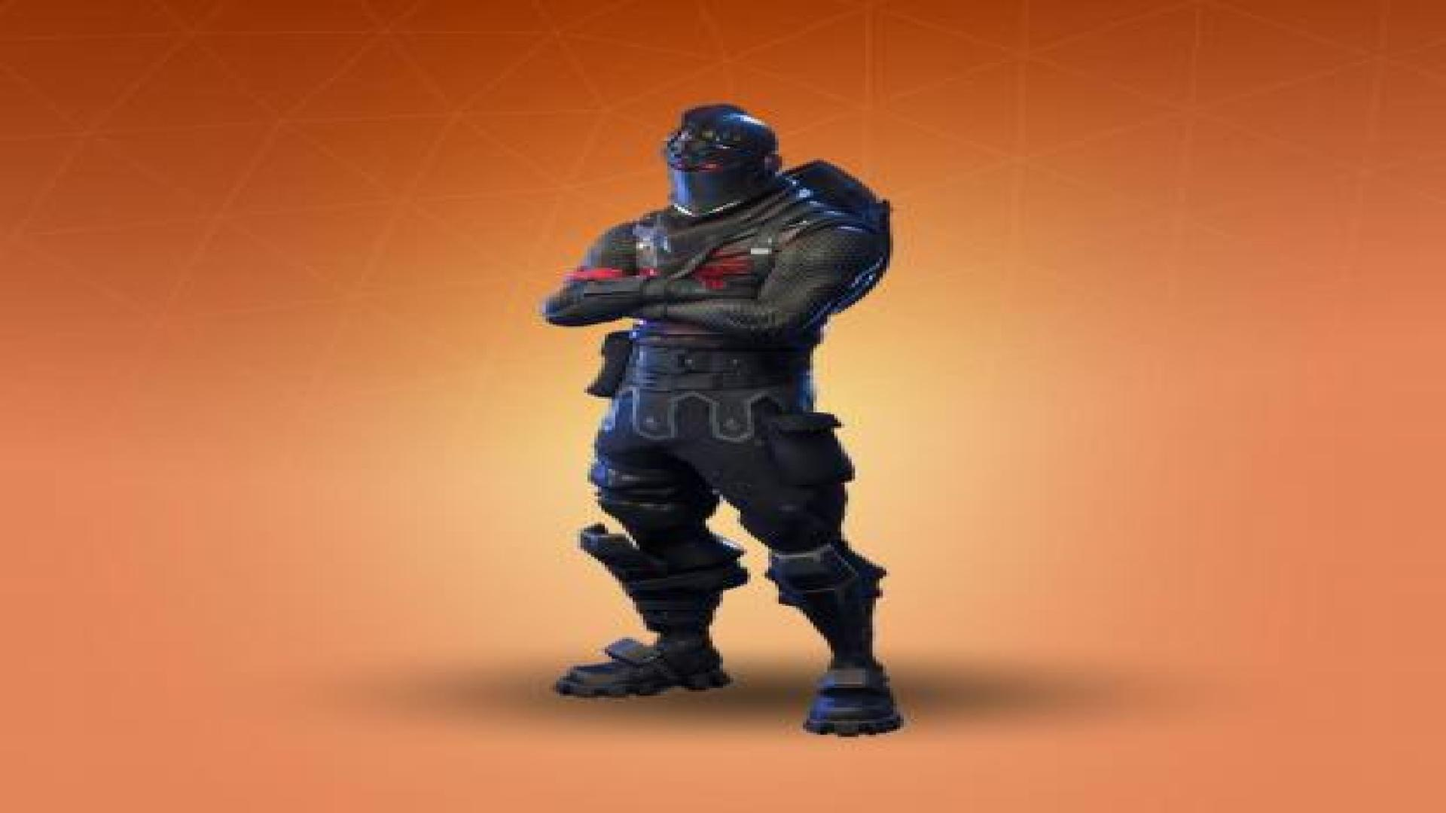player: (534, 101, 906, 734)
